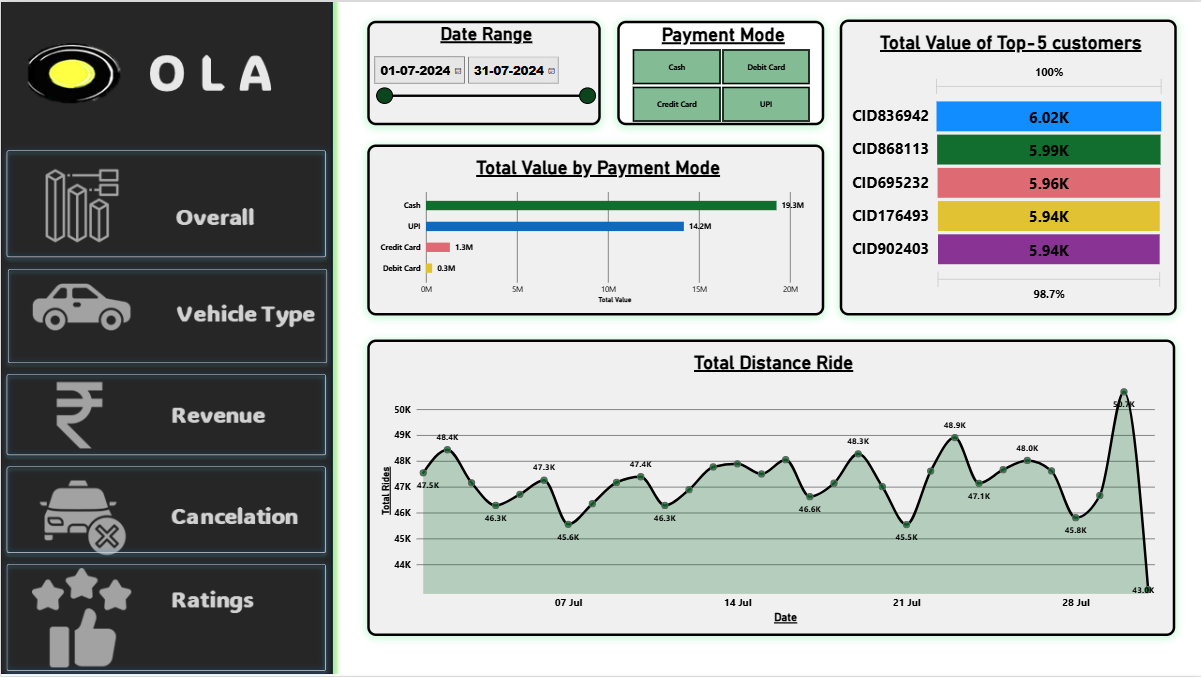

This screenshot's page, from the dashboard's own definition file:
{"tool":"powerbi","page":{"name":"Revenue","canvas":[1920,1080],"ordinal":2},"visuals":[{"type":"actionButton","box":[0,228.5,529,189.4],"z":0},{"type":"actionButton","box":[2.1,417.8,529,168.8],"z":1000},{"type":"actionButton","box":[0,586.6,529,148.2],"z":2000},{"type":"actionButton","box":[0,734.8,529,156.4],"z":3000},{"type":"actionButton","box":[0,890.6,529,189.4],"z":4000},{"type":"barChart","title":"Total Value by Payment Mode","fields":{"Category":["Ola_data_clean.Payment_Method"],"Y":["Sum(Ola_data_clean.Booking_Value)"]},"box":[586,228.5,730.8,273.8],"z":5000},{"type":"funnel","title":"Total Value of Top-5 customers","fields":{"Category":["Ola_data_clean.Customer_ID"],"Y":["Sum(Ola_data_clean.Booking_Value)"]},"box":[1342,28.8,539.3,473.4],"z":6000},{"type":"slicer","title":"Date Range","fields":{"Values":["Ola_data_clean.Date"]},"box":[586,29.7,373.3,167.4],"z":7000},{"type":"lineChart","title":"Total Distance Ride ","fields":{"Category":["Ola_data_clean.Date"],"Y":["Sum(Ola_data_clean.Ride_Distance)"]},"box":[586,540.7,1292.4,474.4],"z":8000},{"type":"slicer","title":"Payment Mode","fields":{"Values":["Ola_data_clean.Payment_Method"]},"box":[985.5,29.7,331.4,167.4],"z":9000}]}

Visuals, with their boxes in screenshot pixels (x1, y1, x2, y2), scaled from the page's 1920x1080 canvas onto the 1201x677 screenshot:
actionButton: 0, 143, 331, 262
actionButton: 1, 262, 332, 368
actionButton: 0, 368, 331, 461
actionButton: 0, 461, 331, 559
actionButton: 0, 558, 331, 676
"Total Value by Payment Mode" barChart: 367, 143, 824, 315
"Total Value of Top-5 customers" funnel: 839, 18, 1177, 315
"Date Range" slicer: 367, 19, 600, 124
"Total Distance Ride " lineChart: 367, 339, 1175, 636
"Payment Mode" slicer: 616, 19, 824, 124
